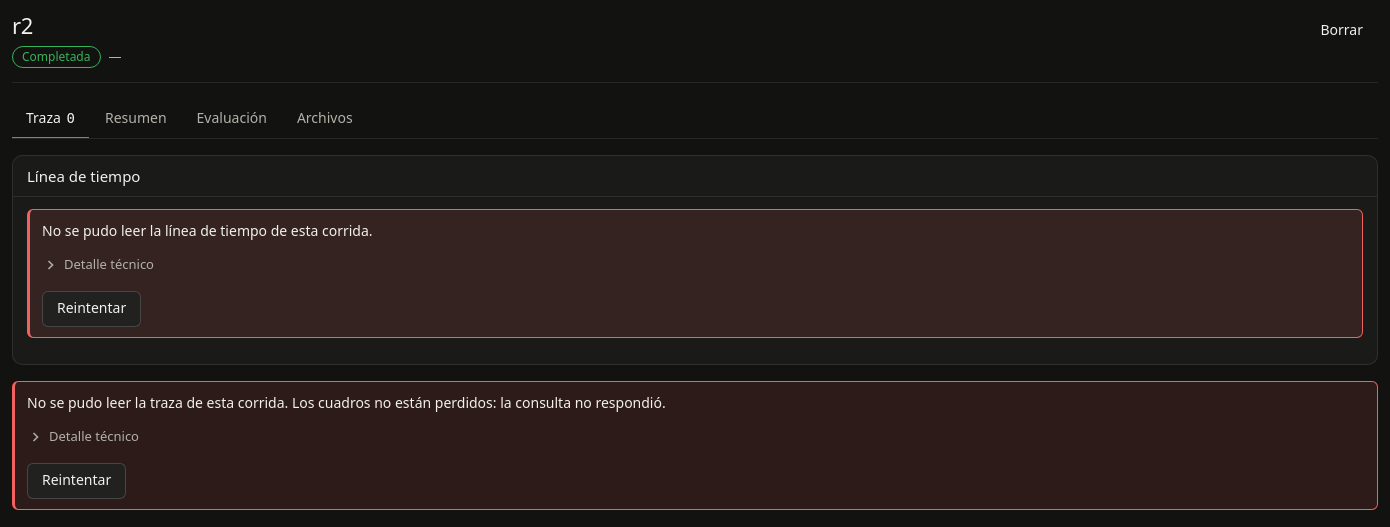
Test case: Línea de tiempo: control temporal y correspondencia con la lista › sin conjunto de evaluación, la pestaña Evaluación lo explica en vez de quedar en blanco
Click the tab "Evaluación" at (232, 118), box [183,98,281,138]
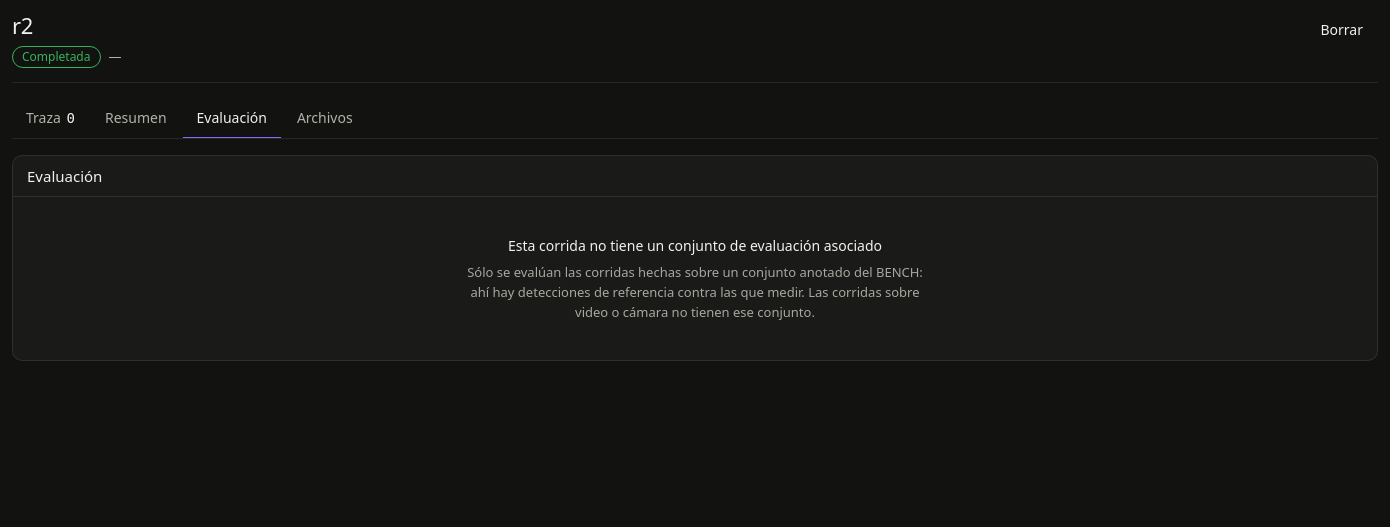
Check: the text "Esta corrida no tiene un conjunto de evaluación asociado" is shown, box [508,236,882,255]
